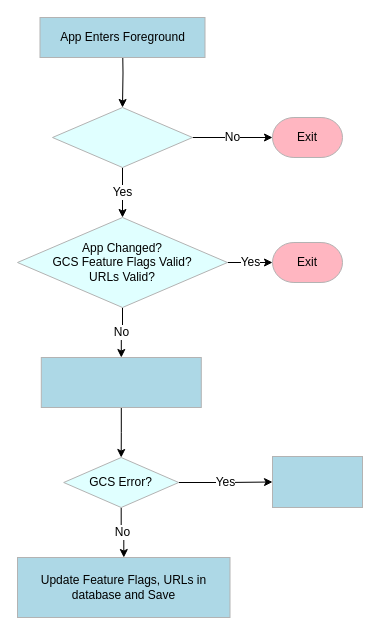
The diagram is 380 pixels wide and 635 high, and some of its shapes have lost their labels. Here are the shapes that lost their labels. From the top down, the centre of each, then its label:
point 122,137: User Logged In?
point 120,382: Get GCS Feature Flags Get URLs
point 317,482: Log Error Message
